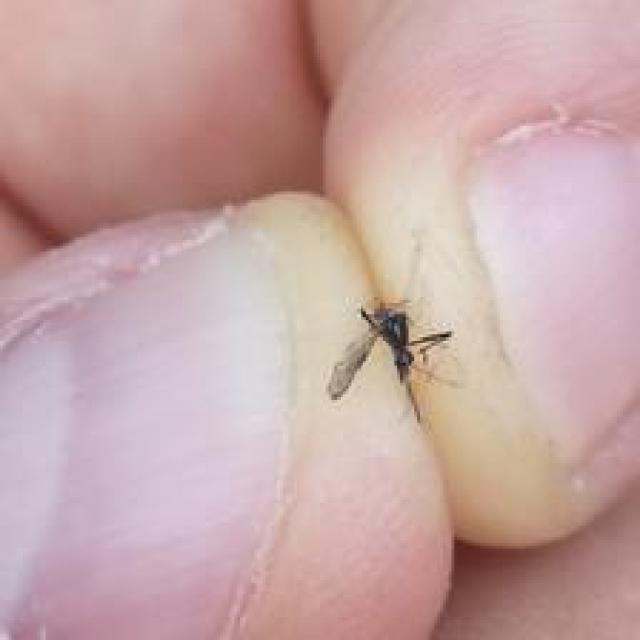Aedes albopictus: (326, 297, 460, 426)
